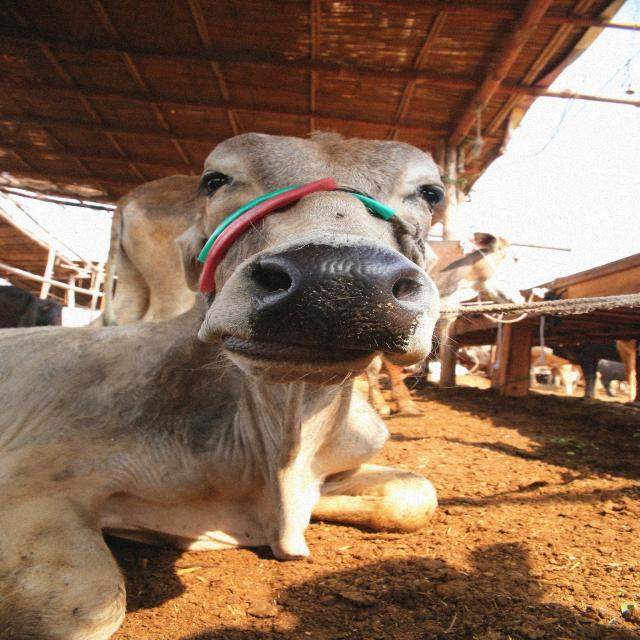muzzles: (242, 240, 432, 356)
